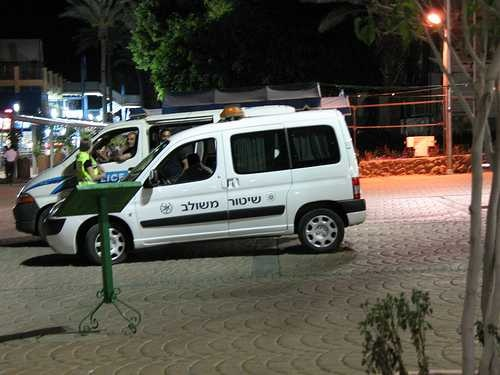Police Car: (39, 113, 368, 258)
